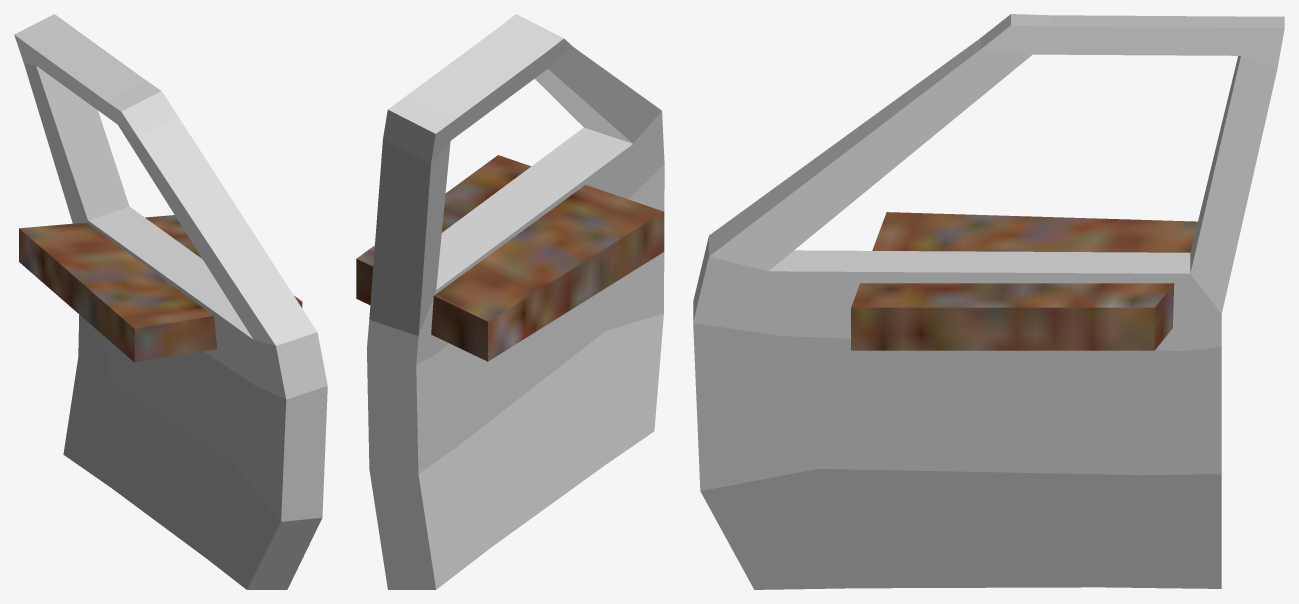
The model's file is BurnedSedanParts.fbx.
3 renders of one model, left to right at view 1: azimuth 30°, elevation 25°; view 2: azimuth 150°, elevation 25°; view 3: azimuth 270°, elevation 25°, orthographic. The views are drawn at different scales.
Visible parts, largest first — view 1: Part_1, Part_2; view 2: Part_1, Part_2; view 3: Part_1, Part_2.
Boxes of the visible parts, x1=… form: Part_1: x1=14, y1=14, x2=327, y2=589; Part_2: x1=19, y1=215, x2=302, y2=362; Part_1: x1=367, y1=14, x2=664, y2=589; Part_2: x1=356, y1=155, x2=664, y2=361; Part_1: x1=693, y1=14, x2=1284, y2=589; Part_2: x1=851, y1=212, x2=1197, y2=350.
Bounding box in the file's own units: 4495 × 12044 × 11762.
